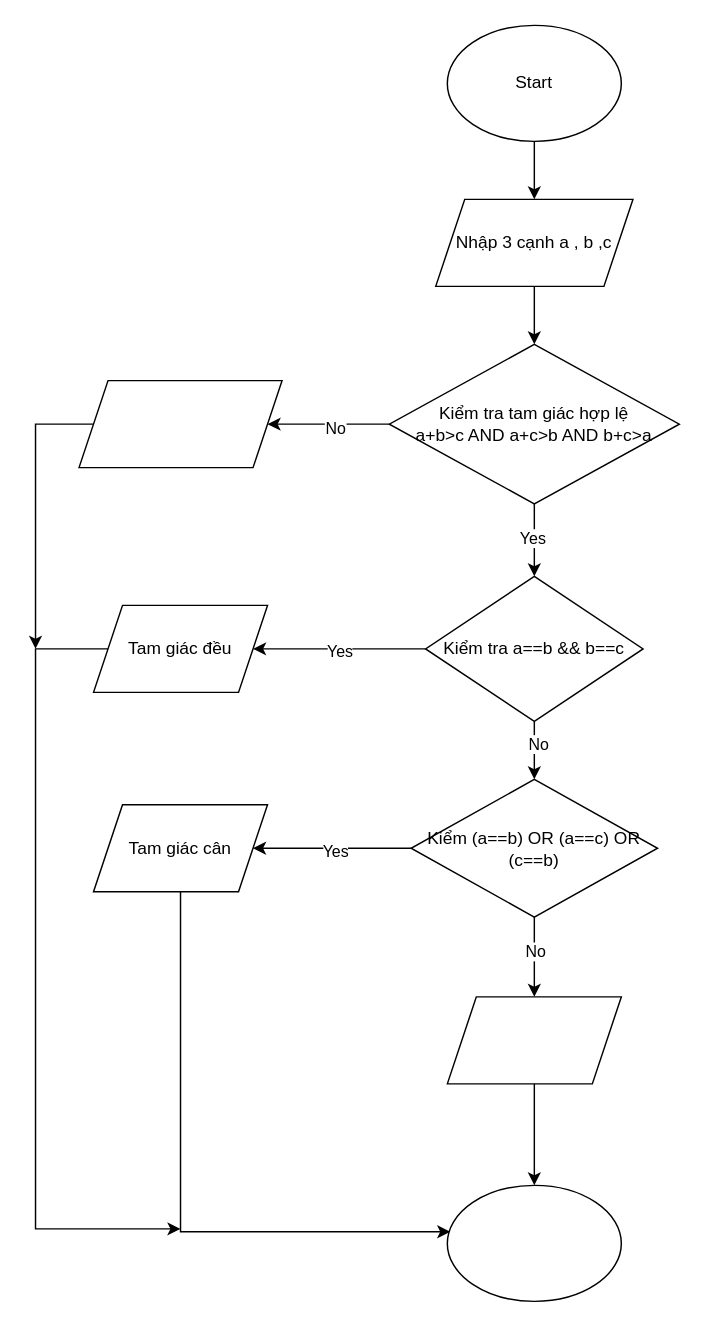
Image size: 705x1327. Some labels were removed from this diagram. Here are the shapes that lost their labels. From the top down, the box of each, then its label:
(78, 379, 282, 468): Không phải tam giác
(446, 995, 621, 1084): Tam giác thường
(446, 1184, 621, 1301): End
